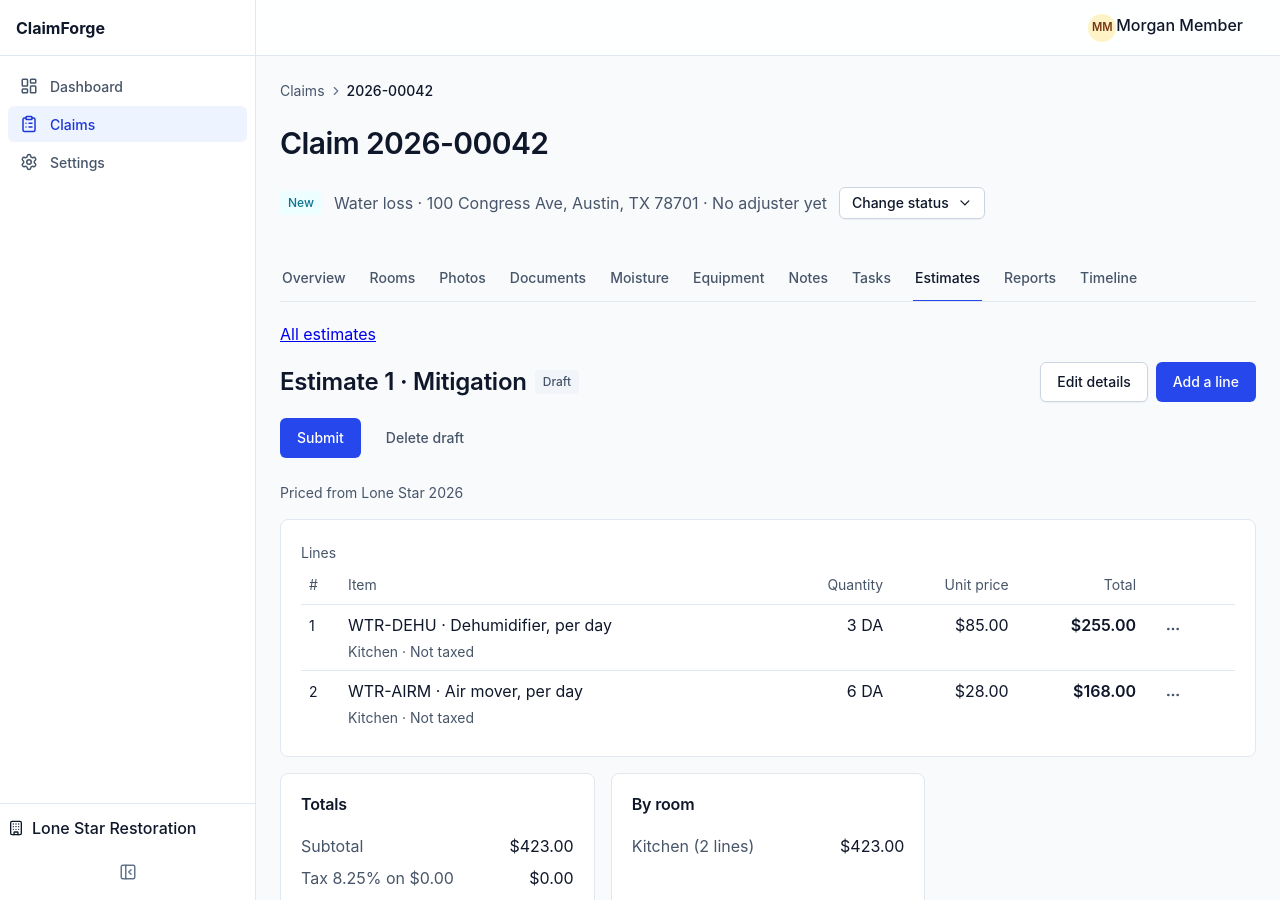
Test: the editor › a line by hand, checked before it's sent
Later steps or results of the test are not shown.
Click the button "Add a line".
click(1206, 382)  # box [1156,362,1256,402]
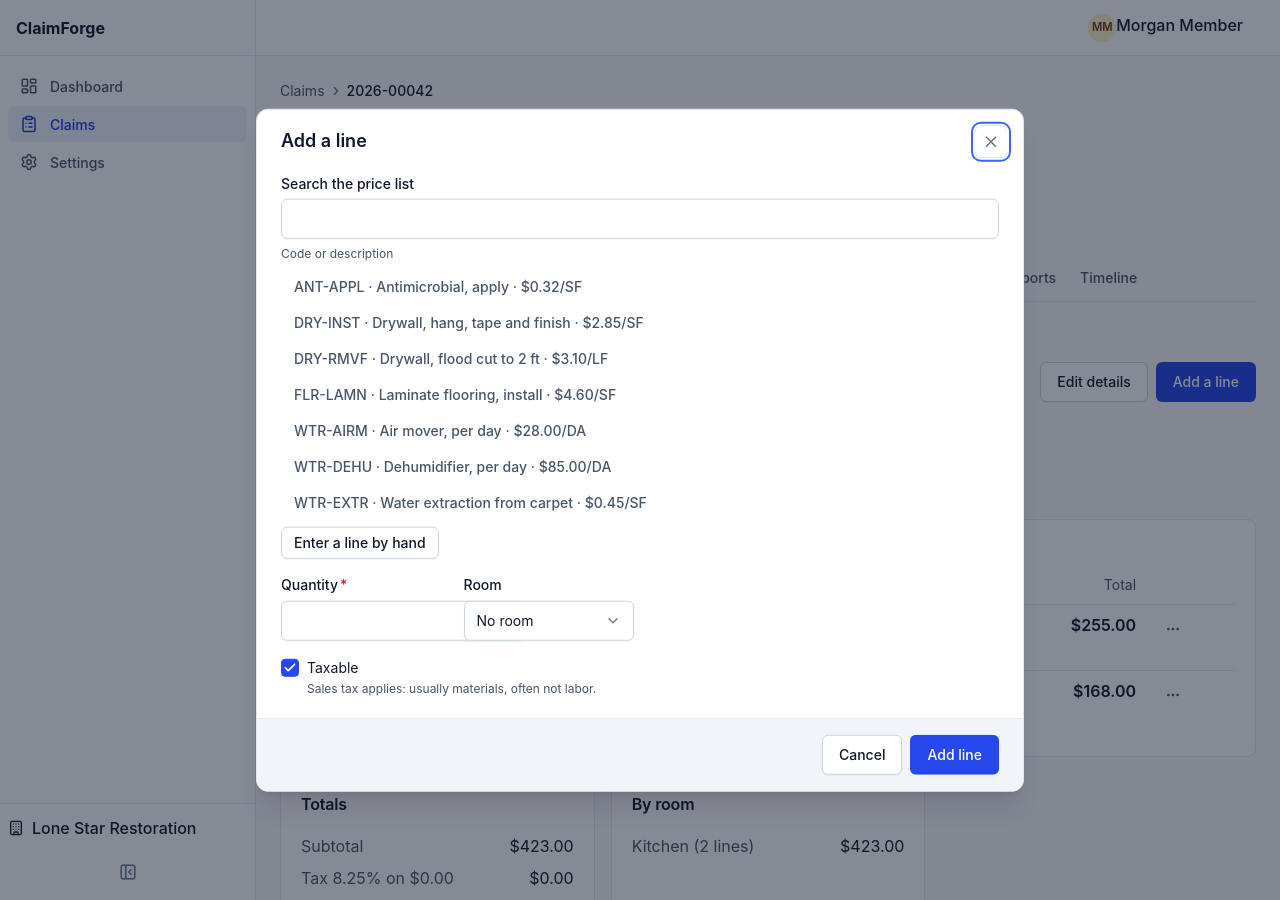
Click the button "Enter a line by hand".
click(360, 543)  # box [281,527,439,559]
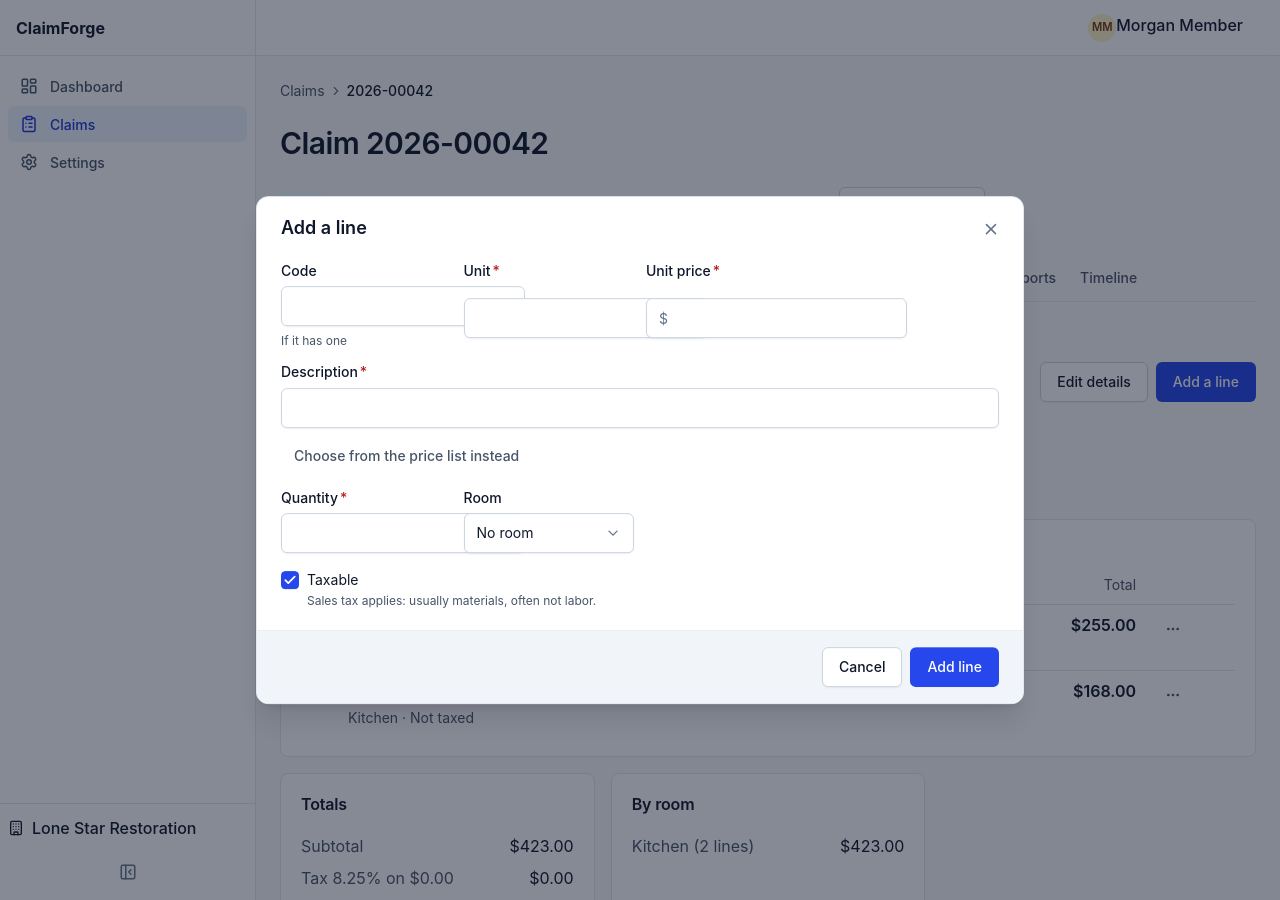
Clear the field labelled "Unit price*" at (785, 318), box [676,299,894,337]
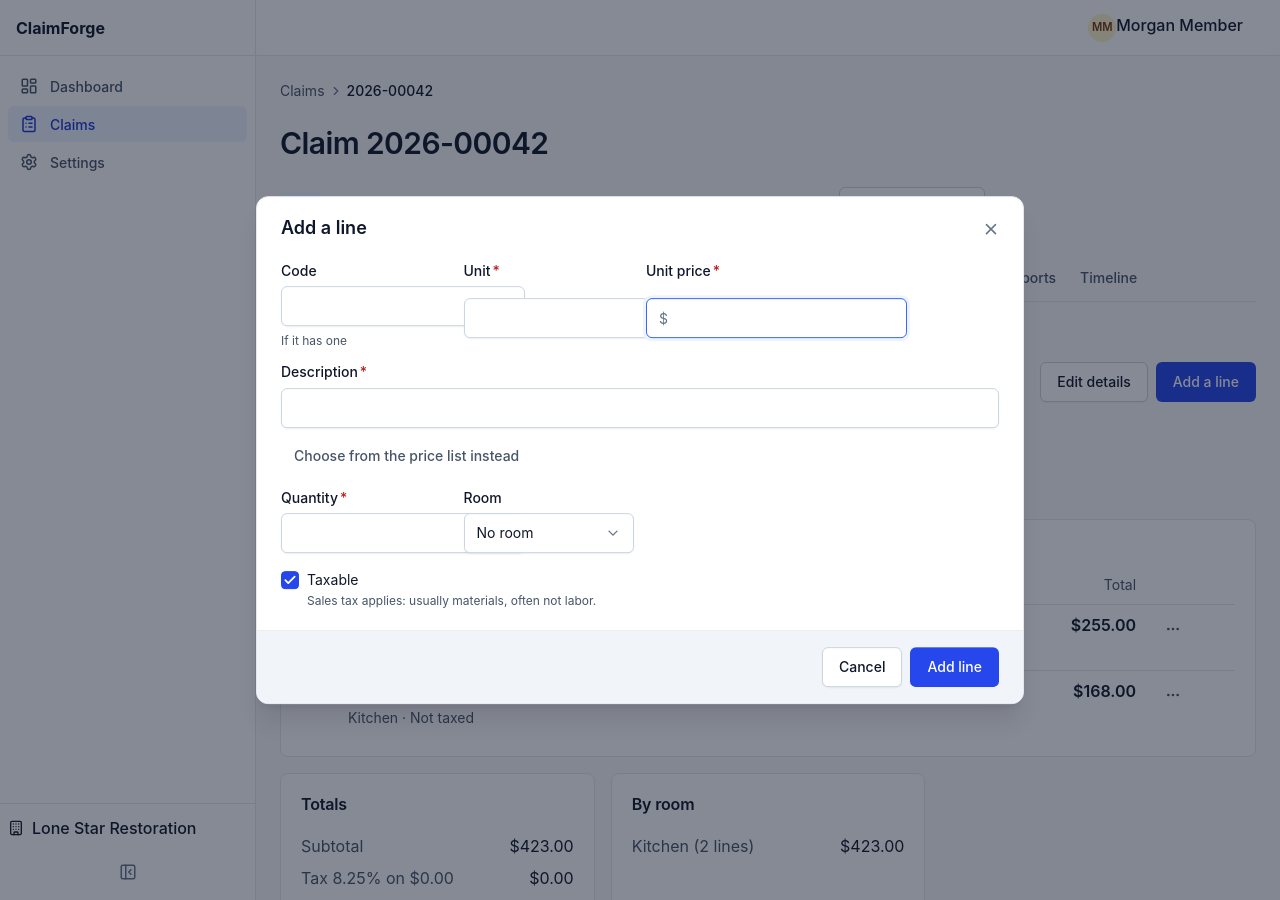
Click the field labelled "Unit price*".
click(785, 318)  # box [676,299,894,337]
Type keys "1.234"
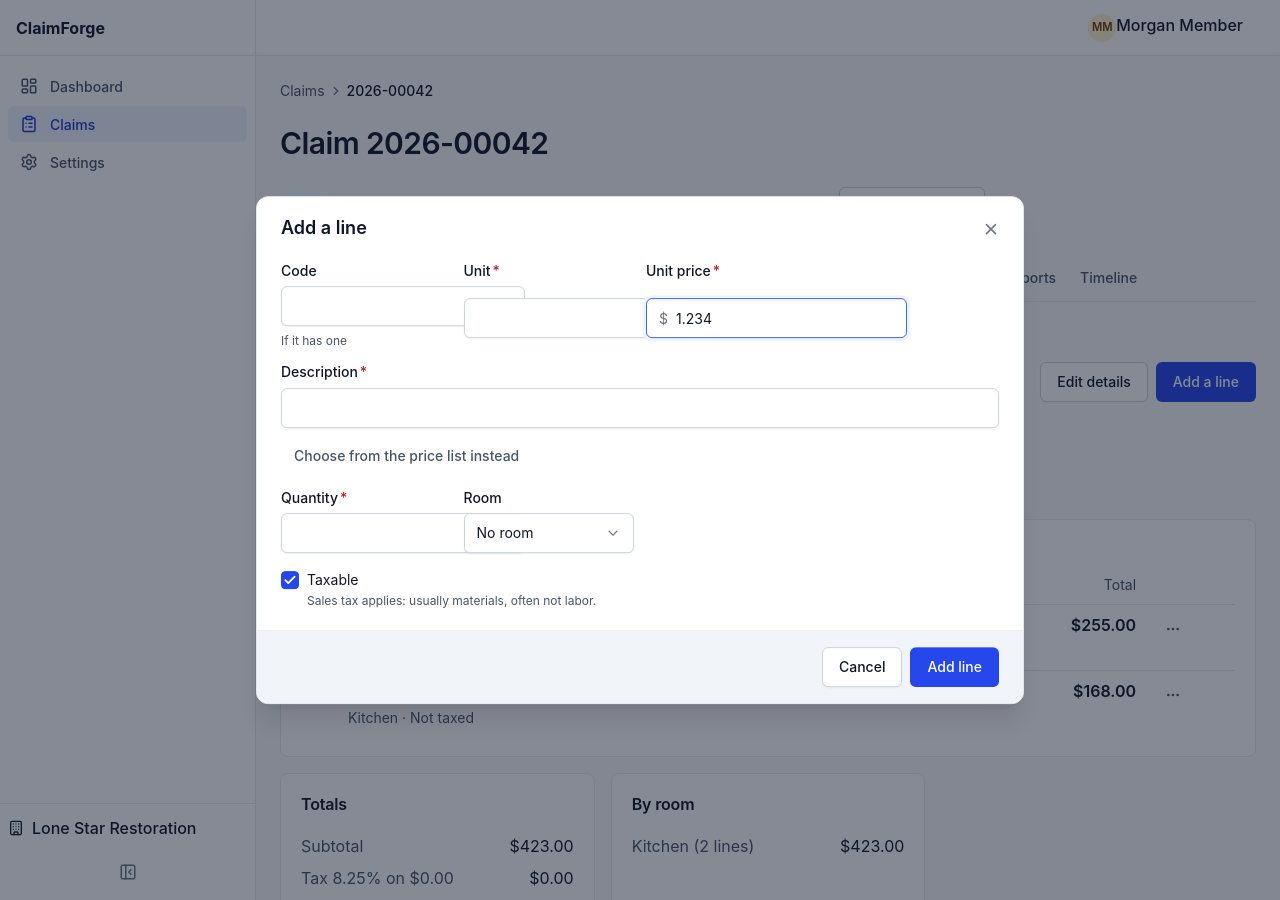
Click the button "Add line".
click(955, 667)  # box [910,647,999,687]
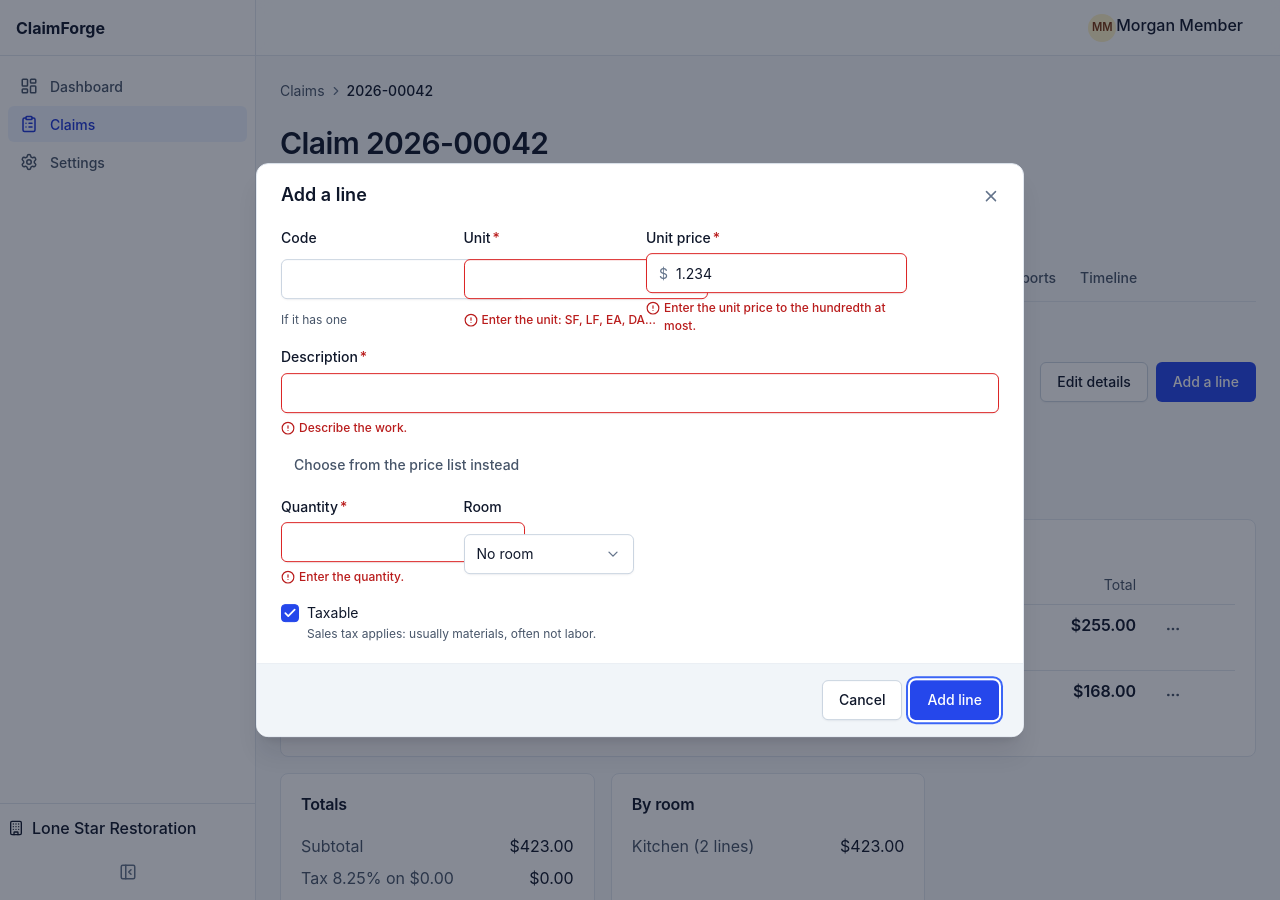
Now the text "Describe the work." is shown, box [299,419,407,437]
Now the text "Enter the quantity." is shown, box [299,568,404,586]
Now the text "Enter the unit price to the hundredth at most." is shown, box [664,299,907,335]
